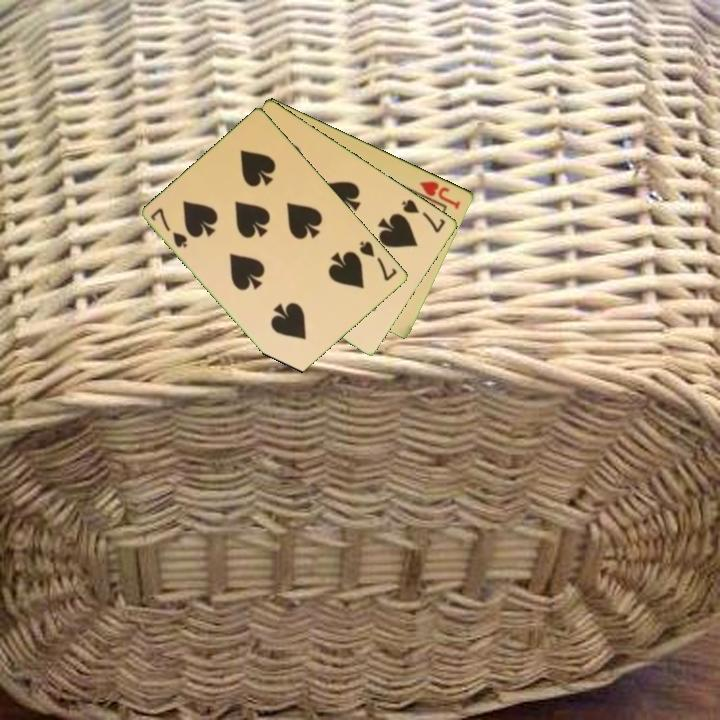7s: (147, 204, 191, 251), (398, 196, 449, 236), (356, 238, 400, 284)
Jh: (409, 177, 464, 212)
